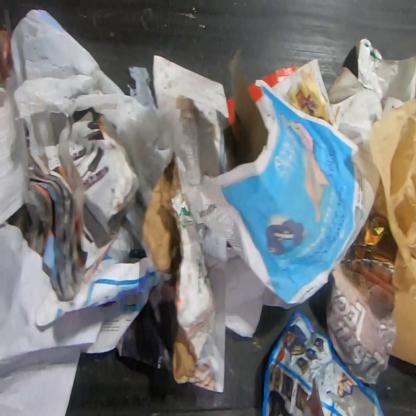cardboard: (140, 154, 217, 385), (232, 64, 272, 164), (390, 247, 415, 368)
soft_plastic: (9, 9, 184, 209)
